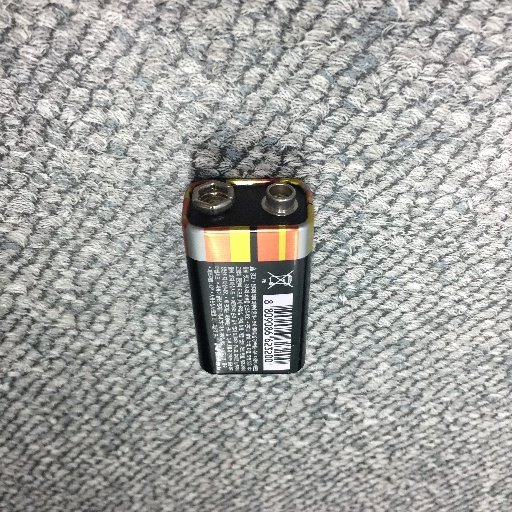Battery_3: (170, 159, 334, 397)
